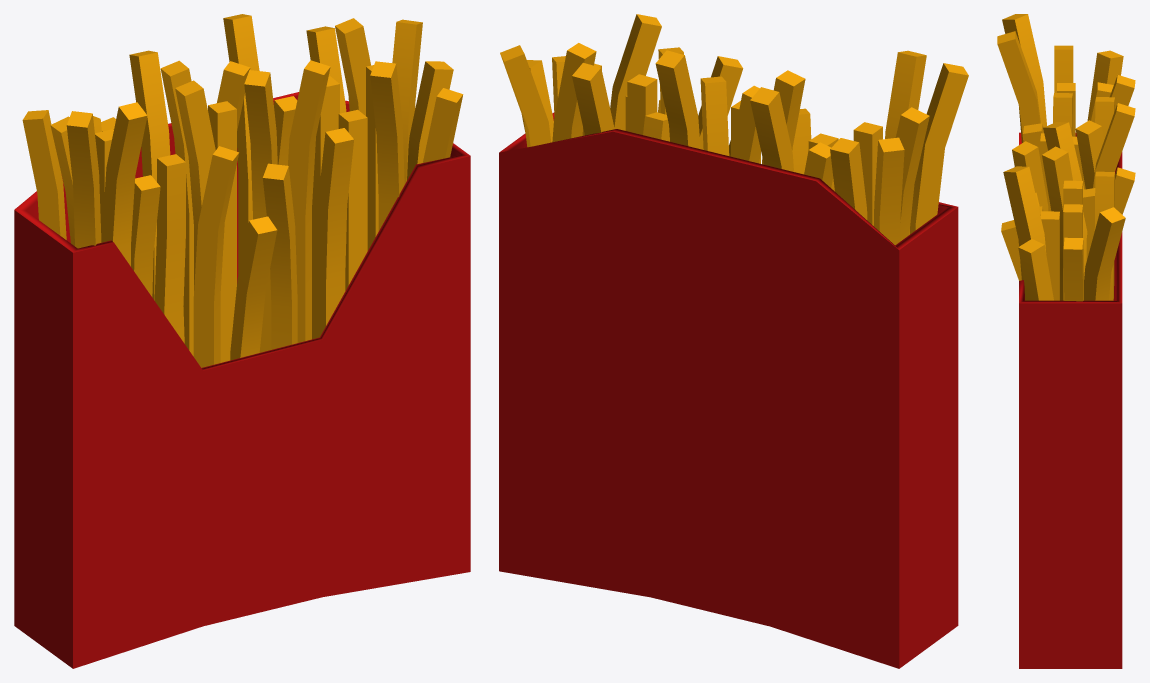
File: FriesInHolder.obj
3 views of the same model, side by side, from view 1: azimuth 30°, elevation 25°; view 2: azimuth 150°, elevation 25°; view 3: azimuth 270°, elevation 25° (orthographic). The views are drawn at different scales.
Visible parts, largest first — view 1: pCube41; view 2: pCube41; view 3: pCube41.
Part boxes in pixels (x1,y1,x2,y2): pCube41: [14, 14, 470, 668]; pCube41: [499, 14, 968, 668]; pCube41: [997, 14, 1135, 668].
Bounding box in the file's own units: 1.04 × 1.33 × 0.3425.
